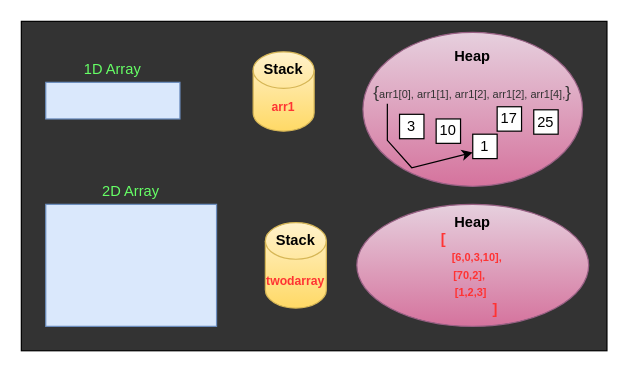
Image size: 628x372. Some labels were removed from this diagram. Each missing label, with the centre of its shape:
"int[ ] [ ] twodarray = { {6,0,3,10}, {70,2}, {1,2,3} }" goes at (x=131, y=264).
"int[ ] arr1 = {1,3,10,17,25}" goes at (x=112, y=100).
